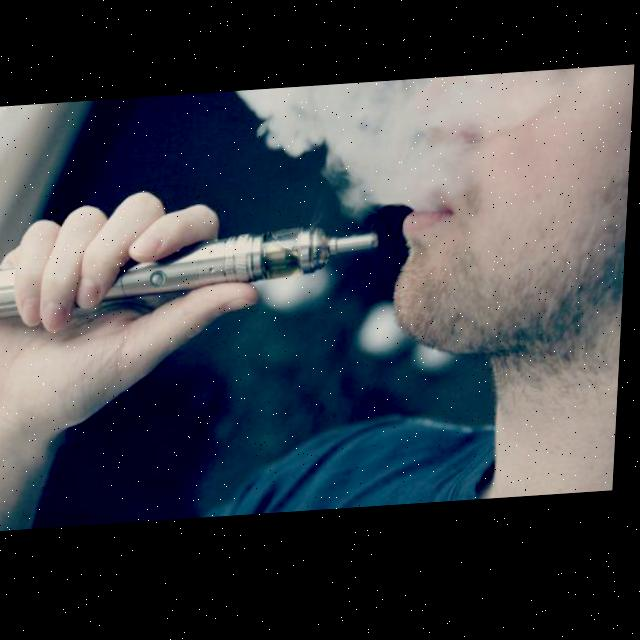vape: (0, 228, 381, 323)
